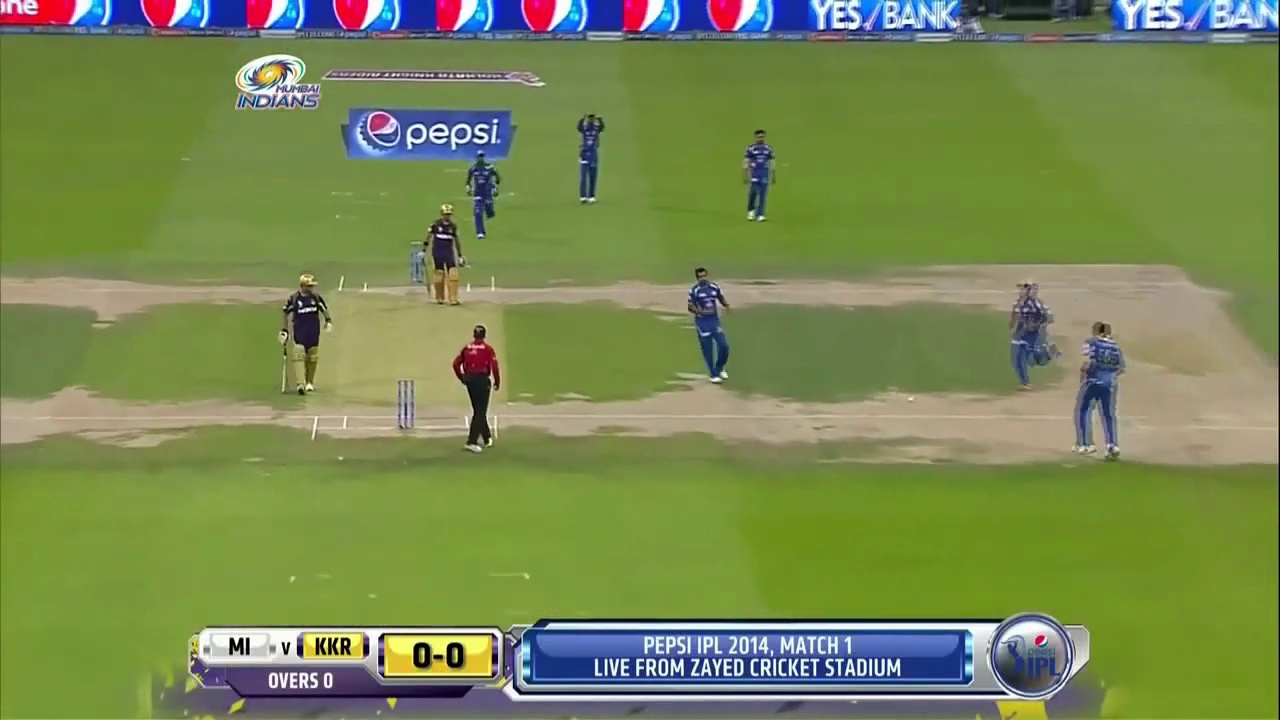bat: (279, 348, 288, 393)
stumps: (398, 379, 414, 429)
